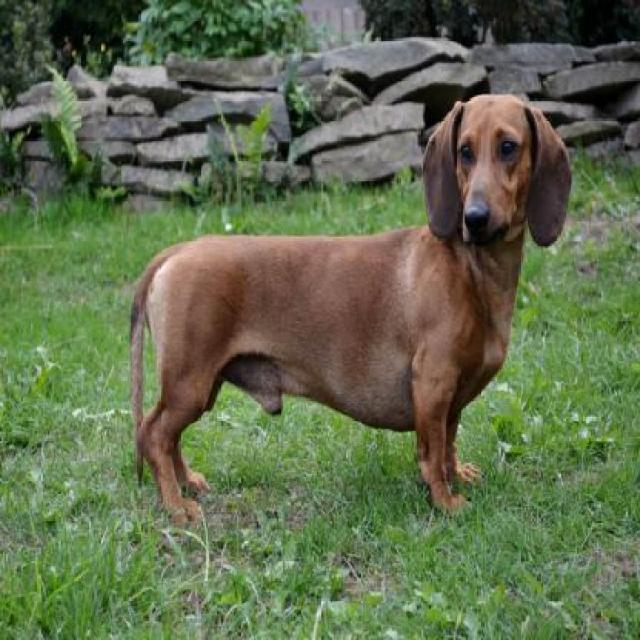Dog: (119, 83, 576, 532)
